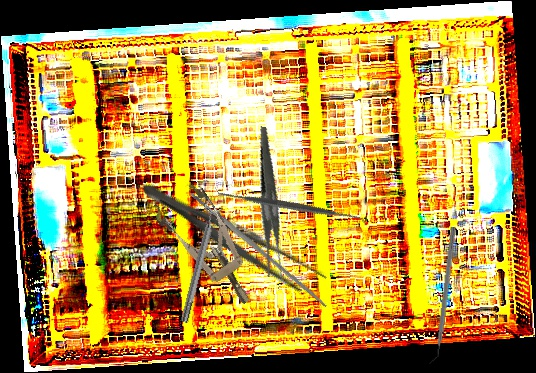Chopper: (426, 225, 457, 366)
Dressing Forceps: (133, 172, 331, 301), (225, 126, 317, 280)
Fixation Ring: (173, 201, 225, 325)
Scalpel Handle: (189, 190, 329, 309)
Spatula Surgical: (214, 130, 367, 282)
Speculum: (148, 177, 270, 319)
